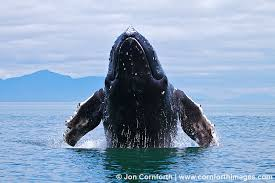humpback: (95, 23, 184, 148)
